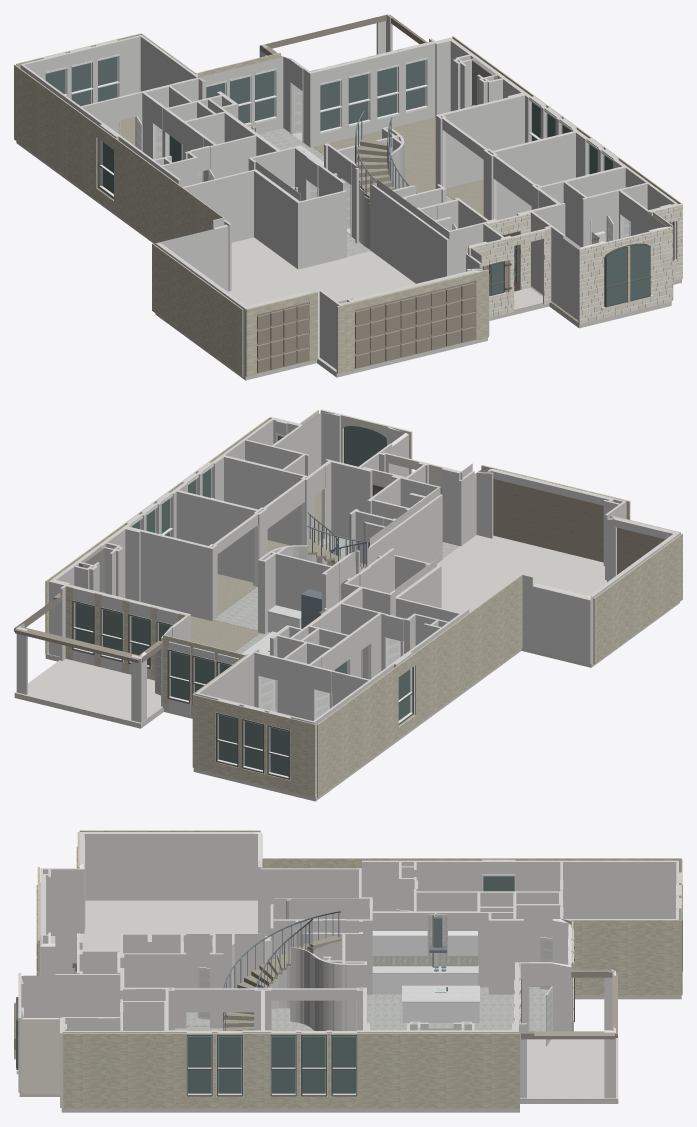
Rendered from first_floor.glb.
3 renders of one model, top to bottom at view 1: azimuth 30°, elevation 25°; view 2: azimuth 150°, elevation 25°; view 3: azimuth 270°, elevation 25°, orthographic. The views are drawn at different scales.
Visible parts, largest first — view 1: 0754_Left_side_0, 0045_Source_vector_walls_7_0, 0024_Garage_vector_walls_0_0, 0065_Source_vector_walls_21_0, 0005_Four-car garage_floor_0, 0755_Added_bay_side_0, 0050_Source_vector_walls_12_0, 0048_Source_vector_walls_10_0, 0025_Garage_vector_walls_1_0, 0073_Source_vector_walls_29_0, 0061_Source_vector_walls_17_1, 0019_Family room_floor_0 (+42 smaller); view 2: 0754_Left_side_0, 0045_Source_vector_walls_7_0, 0065_Source_vector_walls_21_0, 0005_Four-car garage_floor_0, 0050_Source_vector_walls_12_0, 0542_Garage_door_1_panel_0, 0755_Added_bay_side_0, 0756_Primary_rear_0, 0048_Source_vector_walls_10_0, 0004_Covered patio_floor_0, 0071_Source_vector_walls_27_0, 0077_Source_vector_walls_33_0 (+41 smaller); view 3: 0753_Right_side_0, 0028_Garage_vector_walls_2_2, 0065_Source_vector_walls_21_0, 0062_Source_vector_walls_18_0, 0073_Source_vector_walls_29_0, 0757_Primary_return_0, 0005_Four-car garage_floor_0, 0071_Source_vector_walls_27_0, 0004_Covered patio_floor_0, 0067_Source_vector_walls_23_0, 0024_Garage_vector_walls_0_0, 0001_First_floor_slab_0 (+42 smaller).
Part boxes in pixels (left/top/right/bottom): 0754_Left_side_0: left=14, top=64, right=223, bottom=242; 0045_Source_vector_walls_7_0: left=426, top=37, right=531, bottom=190; 0024_Garage_vector_walls_0_0: left=183, top=169, right=346, bottom=291; 0065_Source_vector_walls_21_0: left=136, top=83, right=309, bottom=201; 0005_Four-car garage_floor_0: left=228, top=237, right=415, bottom=372; 0755_Added_bay_side_0: left=152, top=243, right=243, bottom=376; 0050_Source_vector_walls_12_0: left=531, top=158, right=678, bottom=258; 0048_Source_vector_walls_10_0: left=483, top=128, right=588, bottom=220; 0025_Garage_vector_walls_1_0: left=370, top=184, right=449, bottom=283; 0073_Source_vector_walls_29_0: left=377, top=179, right=510, bottom=275; 0061_Source_vector_walls_17_1: left=118, top=35, right=198, bottom=101; 0019_Family room_floor_0: left=313, top=117, right=435, bottom=192; 0754_Left_side_0: left=317, top=575, right=522, bottom=797; 0045_Source_vector_walls_7_0: left=49, top=523, right=217, bottom=660; 0065_Source_vector_walls_21_0: left=270, top=574, right=386, bottom=720; 0005_Four-car garage_floor_0: left=437, top=535, right=606, bottom=612; 0050_Source_vector_walls_12_0: left=211, top=418, right=312, bottom=545; 0542_Garage_door_1_panel_0: left=493, top=479, right=603, bottom=562; 0755_Added_bay_side_0: left=593, top=533, right=682, bottom=664; 0756_Primary_rear_0: left=193, top=694, right=315, bottom=797; 0048_Source_vector_walls_10_0: left=170, top=482, right=267, bottom=585; 0004_Covered patio_floor_0: left=15, top=659, right=162, bottom=723; 0071_Source_vector_walls_27_0: left=258, top=542, right=339, bottom=633; 0077_Source_vector_walls_33_0: left=532, top=585, right=590, bottom=664; 0753_Right_side_0: left=63, top=1033, right=519, bottom=1108; 0028_Garage_vector_walls_2_2: left=79, top=832, right=257, bottom=900; 0065_Source_vector_walls_21_0: left=345, top=889, right=562, bottom=994; 0062_Source_vector_walls_18_0: left=515, top=860, right=678, bottom=918; 0073_Source_vector_walls_29_0: left=79, top=934, right=264, bottom=1028; 0757_Primary_return_0: left=573, top=920, right=681, bottom=995; 0005_Four-car garage_floor_0: left=51, top=900, right=270, bottom=950; 0071_Source_vector_walls_27_0: left=291, top=932, right=366, bottom=1030; 0004_Covered patio_floor_0: left=520, top=1036, right=618, bottom=1098; 0067_Source_vector_walls_23_0: left=362, top=860, right=482, bottom=911; 0024_Garage_vector_walls_0_0: left=260, top=868, right=361, bottom=940; 0001_First_floor_slab_0: left=19, top=995, right=681, bottom=1112.
Bounding box in the file's own units: 18.45 × 4.66 × 24.75.
40 materials, 10 textured.
